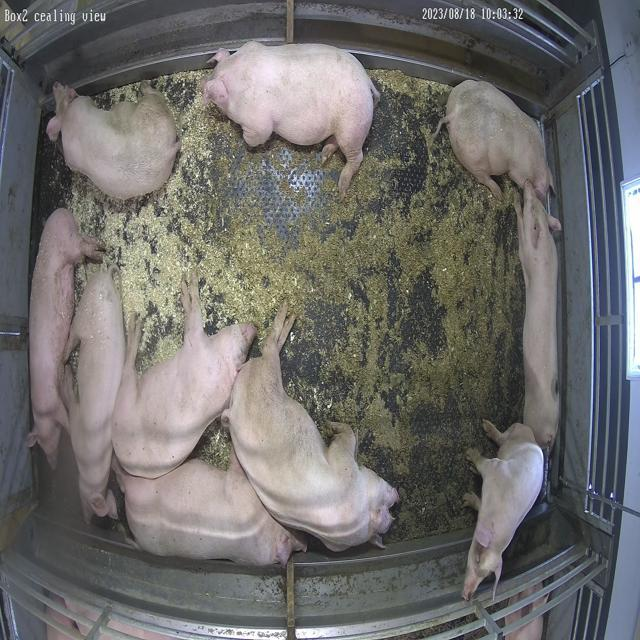Dirt: (271, 71, 525, 540)
Pig: (223, 304, 399, 552), (115, 456, 306, 566), (27, 208, 101, 468), (62, 268, 125, 522), (47, 83, 179, 198), (464, 421, 544, 600), (439, 80, 554, 202), (517, 184, 561, 448)
